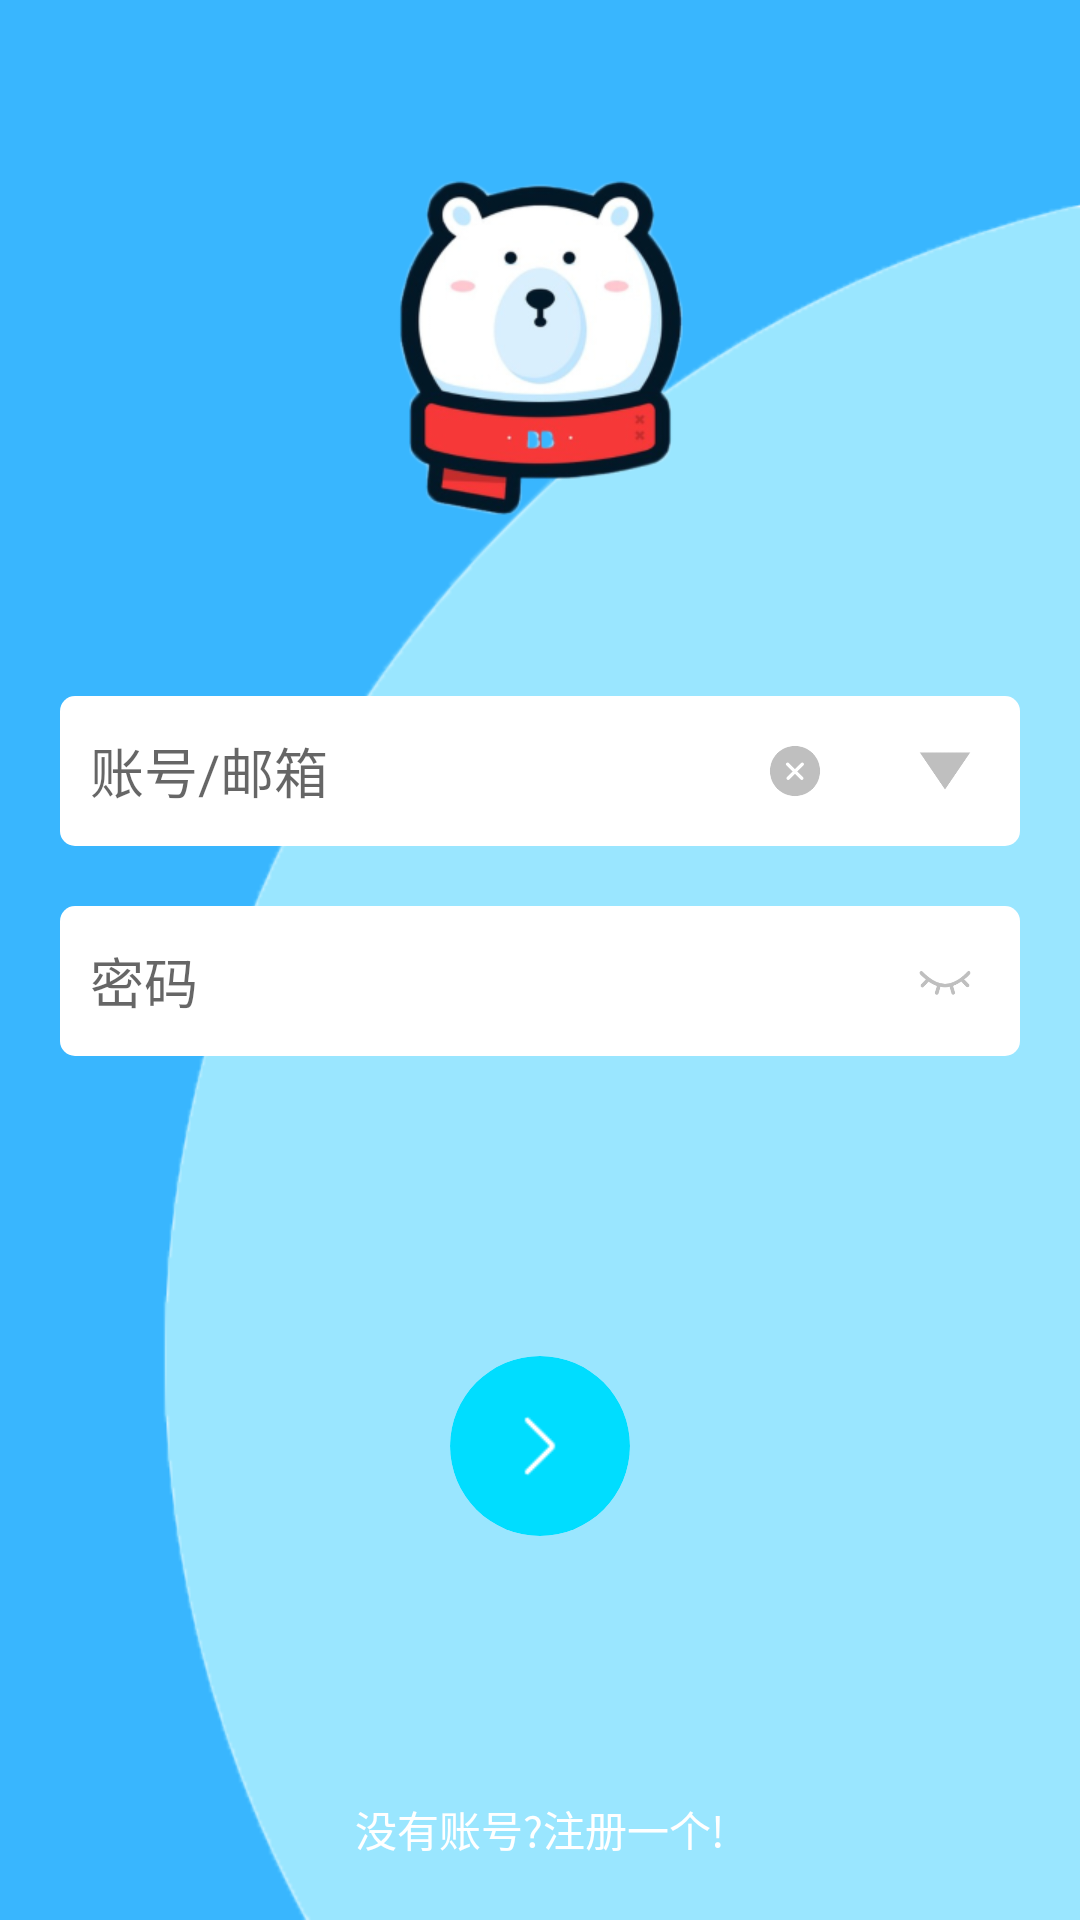

Where to tap for icons on this 1080 × 1920 app screen, as [x,y]:
close: [795,771]
down: [945,770]
login start: [540,1446]
password invisible: [945,983]
